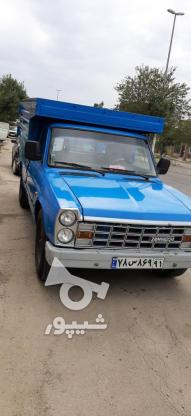car: (109, 256, 166, 269)
